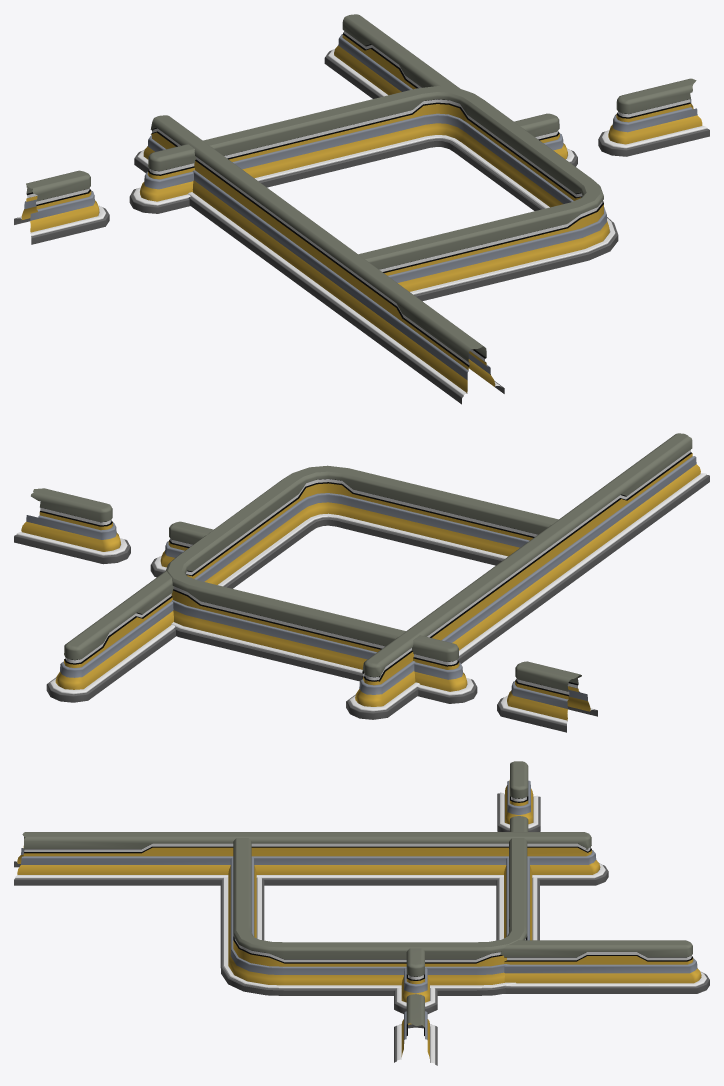
Rendered from Level32_Small_walls.fbx.
The picture shows the model from 3 angles, top to bottom: view 1: azimuth 30°, elevation 25°; view 2: azimuth 150°, elevation 25°; view 3: azimuth 270°, elevation 25°; orthographic projection. The views are drawn at different scales.
Parts seen in each view (by area): view 1: Small_wall_L24, Small_wallv1_11, Small_wallv1_36, Small_wallv1_33, Small_wallv1_35, Small_wallv1_34, Small_wallv1_37; view 2: Small_wall_L24, Small_wallv1_11, Small_wallv1_33, Small_wallv1_36, Small_wallv1_35, Small_wallv1_34, Small_wallv1_37; view 3: Small_wallv1_11, Small_wall_L24, Small_wallv1_33, Small_wallv1_35, Small_wallv1_37, Small_wallv1_36.
Boxes of the visible parts, x1,y1,x2,y2 form: Small_wall_L24: [203, 86, 618, 301]; Small_wallv1_11: [134, 115, 504, 404]; Small_wallv1_36: [598, 78, 709, 156]; Small_wallv1_33: [324, 14, 459, 98]; Small_wallv1_35: [14, 170, 109, 244]; Small_wallv1_34: [129, 144, 196, 213]; Small_wallv1_37: [514, 113, 577, 166]; Small_wall_L24: [166, 465, 558, 681]; Small_wallv1_11: [346, 433, 709, 719]; Small_wallv1_33: [46, 570, 175, 702]; Small_wallv1_36: [14, 488, 130, 564]; Small_wallv1_35: [497, 661, 597, 732]; Small_wallv1_34: [412, 635, 477, 703]; Small_wallv1_37: [150, 521, 213, 577]; Small_wallv1_11: [14, 832, 608, 885]; Small_wall_L24: [220, 838, 539, 995]; Small_wallv1_33: [500, 940, 709, 993]; Small_wallv1_35: [497, 761, 540, 831]; Small_wallv1_37: [394, 948, 437, 1013]; Small_wallv1_36: [394, 994, 437, 1065].
Bounding box in the file's own units: 509 × 38.09 × 550.
